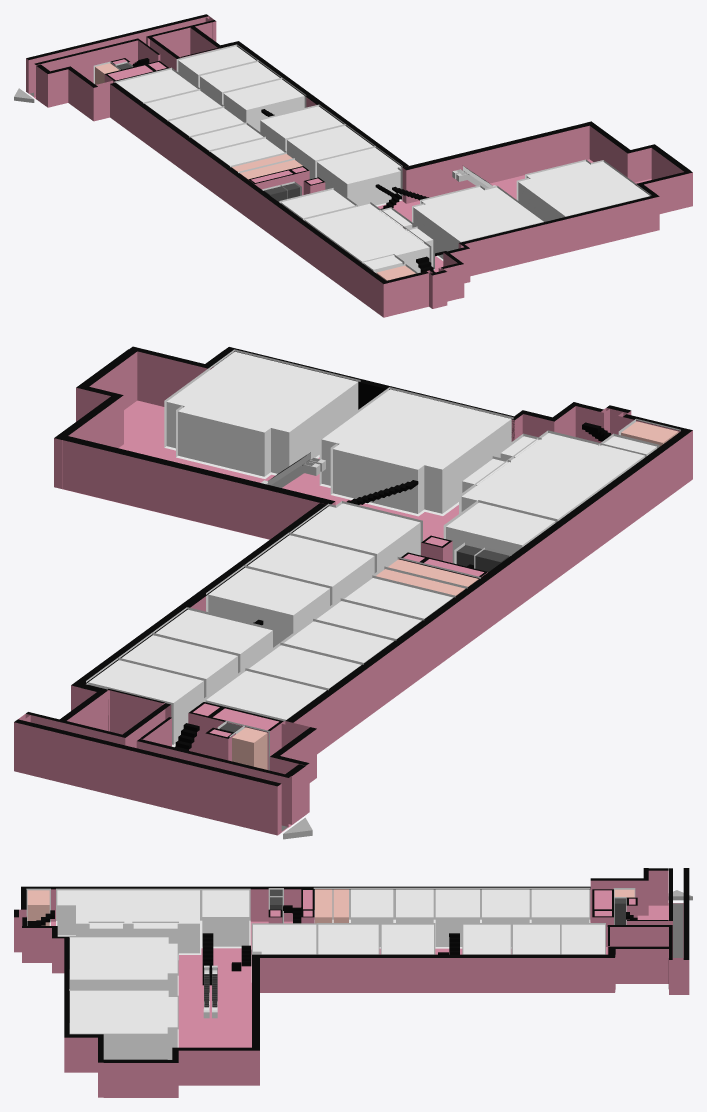
3 views of the same model, one above another, from view 1: azimuth 30°, elevation 25°; view 2: azimuth 150°, elevation 25°; view 3: azimuth 270°, elevation 25° (orthographic). The views are drawn at different scales.
Parts seen in each view (by area): view 1: object, room_10_2_2, object_line.012, room_10_2_1, room_10_2_15, room_10_2_12, room_10_2_3, room_10_2_14, room_10_2_13, room_10_2_11, room_10_2_9, room_10_2_10 (+6 smaller); view 2: object, room_10_2_1, room_10_2_2, object_line.012, room_10_2_13, room_10_2_15, room_10_2_14, room_10_2_10, room_10_2_4, room_10_2_9, room_10_2_12, room_10_2_11 (+13 smaller); view 3: object, room_10_2_1, room_10_2_2, object_line.012, room_10_2_3, room_10_2_4, room_10_2_7, room_10_2_9, room_10_2_15, room_10_2_14, room_10_2_8, room_10_2_13 (+14 smaller).
Boxes of the visible parts, <box> form: object: <box>26,14,692,317</box>; room_10_2_2: <box>413,187,543,258</box>; object_line.012: <box>303,202,434,270</box>; room_10_2_1: <box>518,161,649,221</box>; room_10_2_15: <box>317,148,401,205</box>; room_10_2_12: <box>223,79,304,130</box>; room_10_2_3: <box>307,204,433,272</box>; room_10_2_14: <box>287,126,373,179</box>; room_10_2_13: <box>260,106,343,150</box>; room_10_2_11: <box>200,62,279,103</box>; room_10_2_9: <box>116,69,197,102</box>; room_10_2_10: <box>178,46,255,86</box>; object: <box>14,346,692,835</box>; room_10_2_1: <box>166,351,358,476</box>; room_10_2_2: <box>321,389,511,513</box>; object_line.012: <box>459,430,659,520</box>; room_10_2_13: <box>208,568,329,645</box>; room_10_2_15: <box>292,503,420,571</box>; room_10_2_14: <box>248,535,374,603</box>; room_10_2_10: <box>88,660,203,744</box>; room_10_2_4: <box>446,502,555,563</box>; room_10_2_9: <box>205,670,326,721</box>; room_10_2_12: <box>156,609,272,671</box>; room_10_2_11: <box>121,635,237,696</box>; object: <box>14,868,689,1097</box>; room_10_2_1: <box>70,990,177,1059</box>; room_10_2_2: <box>70,937,177,995</box>; object_line.012: <box>56,888,201,959</box>; room_10_2_3: <box>57,890,199,953</box>; room_10_2_4: <box>202,890,249,946</box>; room_10_2_7: <box>435,889,479,946</box>; room_10_2_9: <box>531,889,589,922</box>; room_10_2_15: <box>253,924,316,954</box>; room_10_2_14: <box>318,924,378,954</box>; room_10_2_8: <box>482,889,529,946</box>; room_10_2_13: <box>381,924,433,954</box>.
Bounding box in the file's own units: 1.85 × 0.1882 × 2.61.
